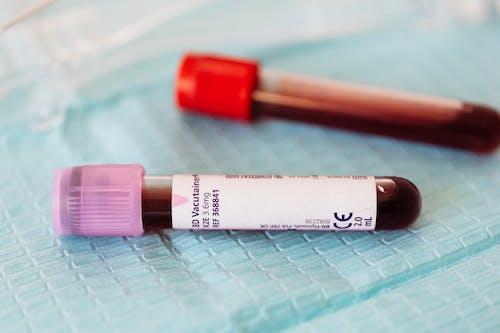blood: (252, 52, 500, 156), (140, 162, 422, 232)
